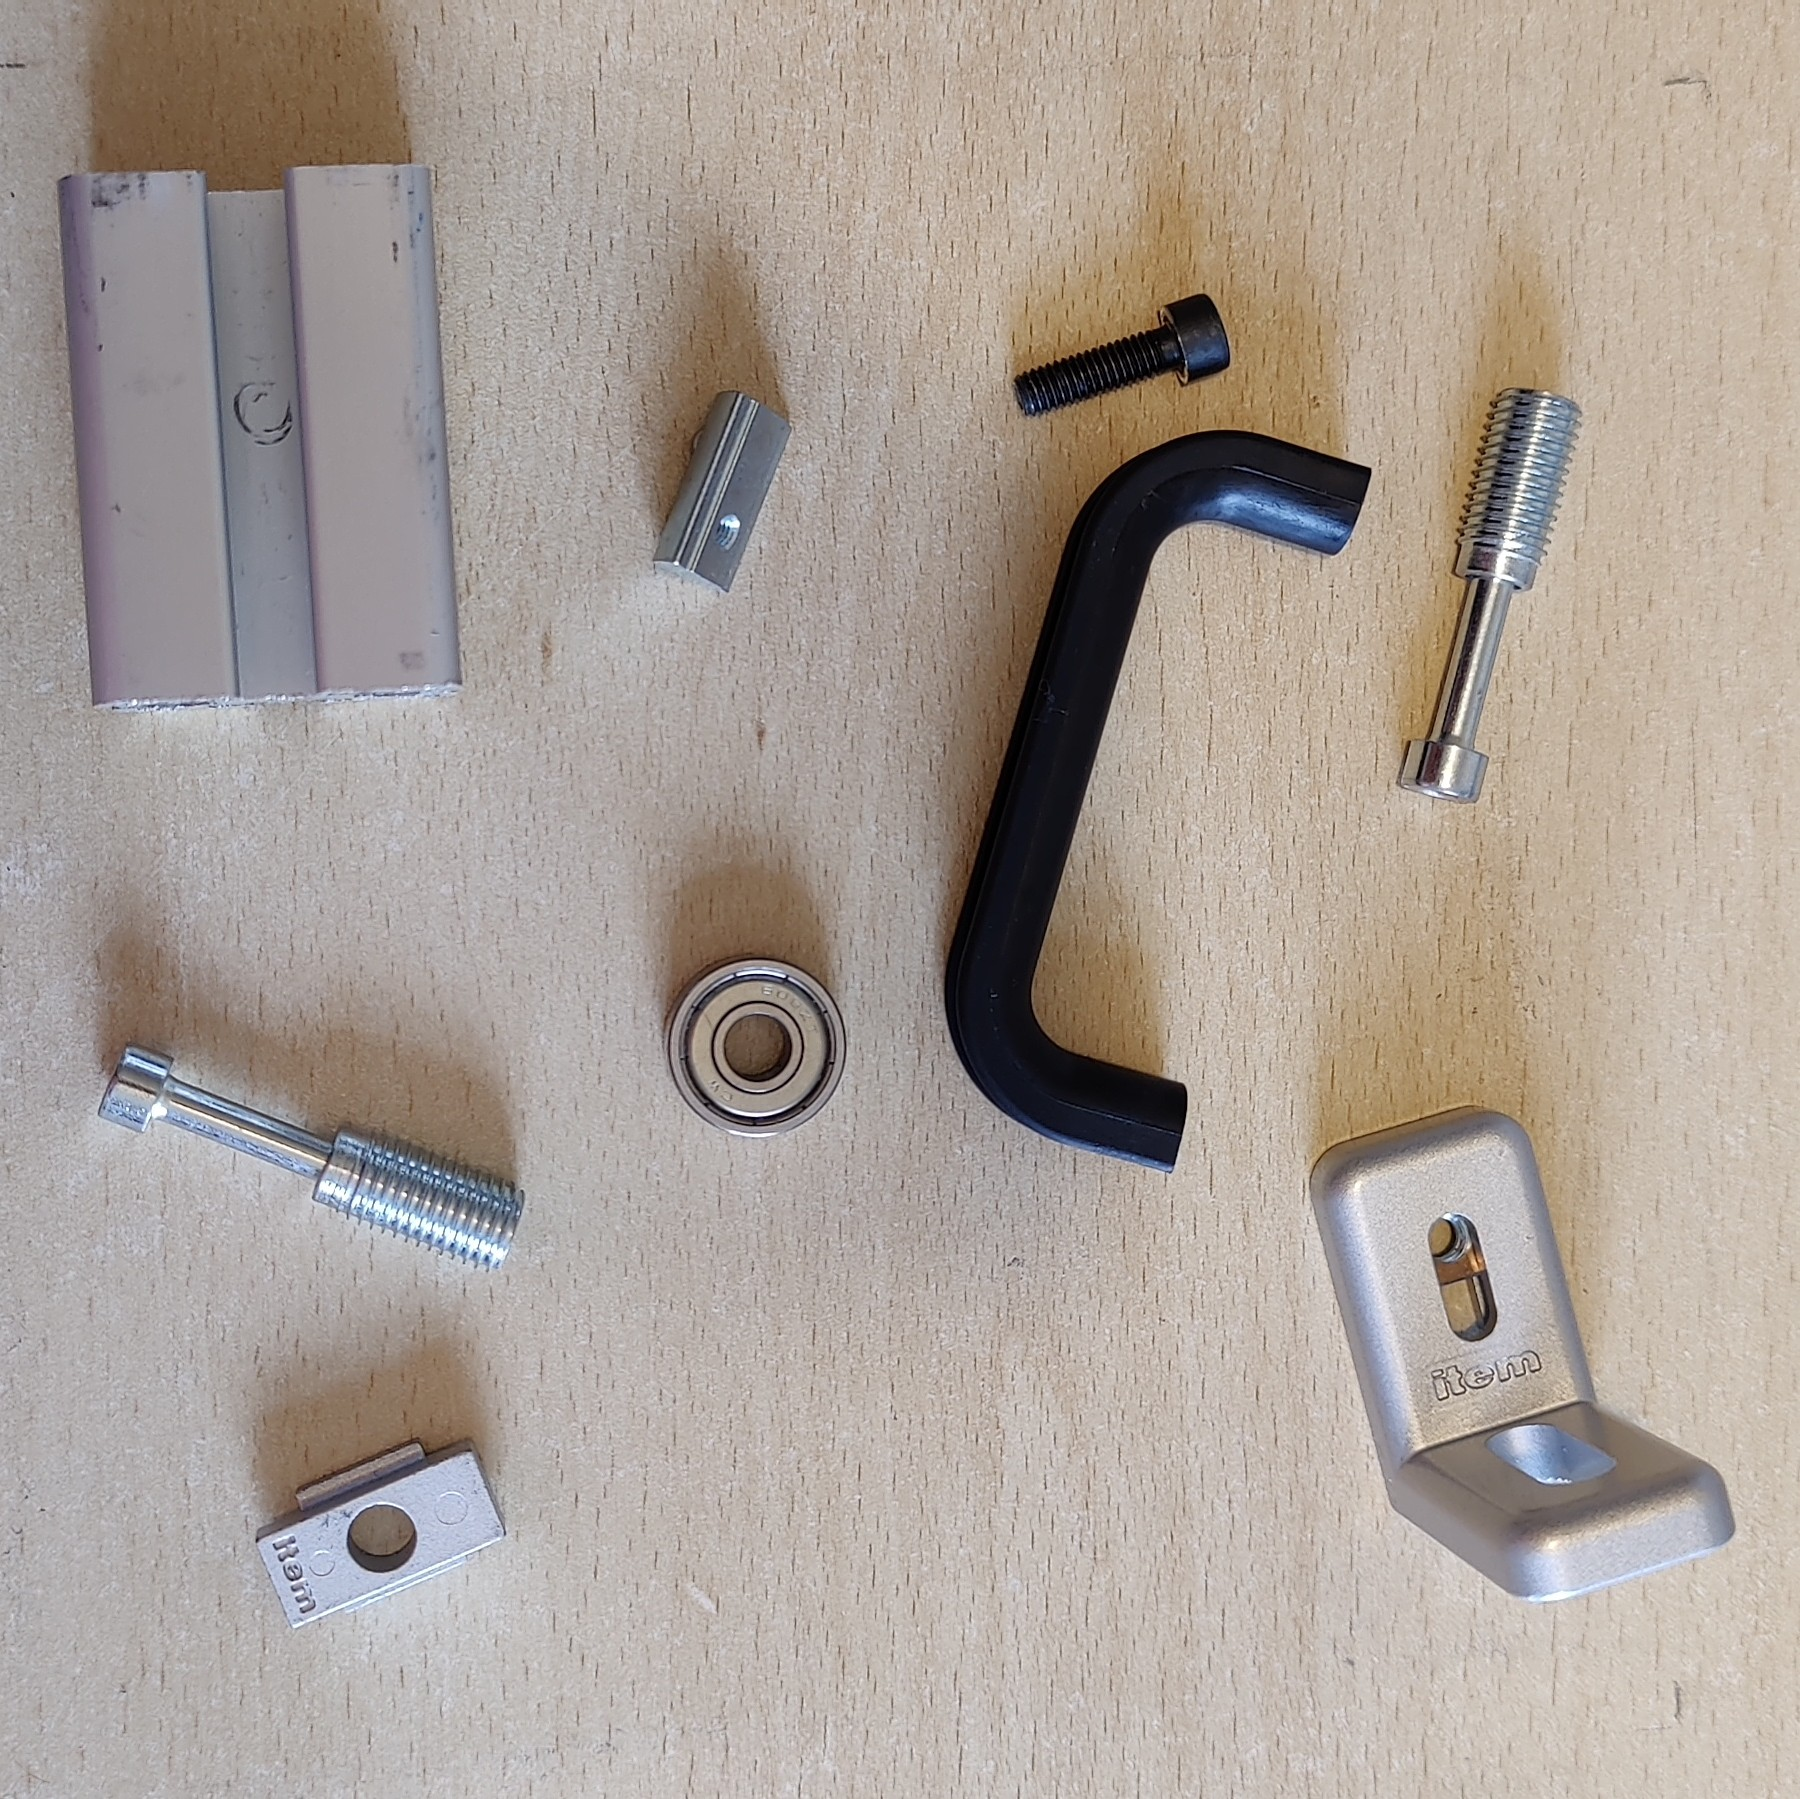Aluminium Extension: (54, 157, 468, 713)
Ball Bearing: (660, 952, 848, 1142)
Multiwinkel: (1308, 1102, 1739, 1606)
Pull Handle: (942, 427, 1373, 1176)
Shoulder Socket Head Cap Screw: (94, 1040, 527, 1273), (1398, 381, 1588, 806)
Socket Head Cap Screw: (1006, 287, 1235, 417)
T Nut Square: (254, 1432, 507, 1634)
T Spring Nut: (651, 387, 795, 595)
